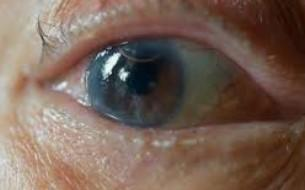eye: (87, 42, 184, 126)
